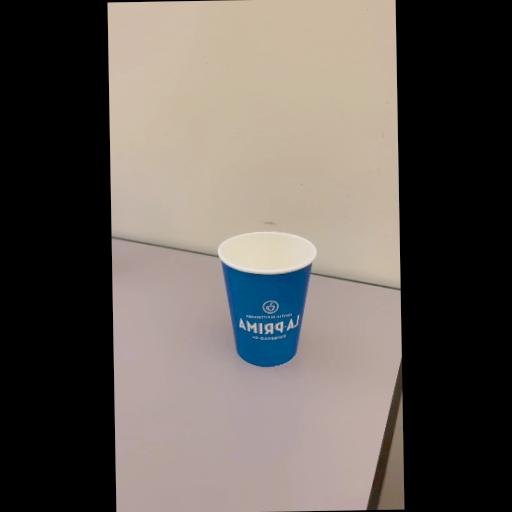lp_paper_cup: (217, 230, 323, 370)
